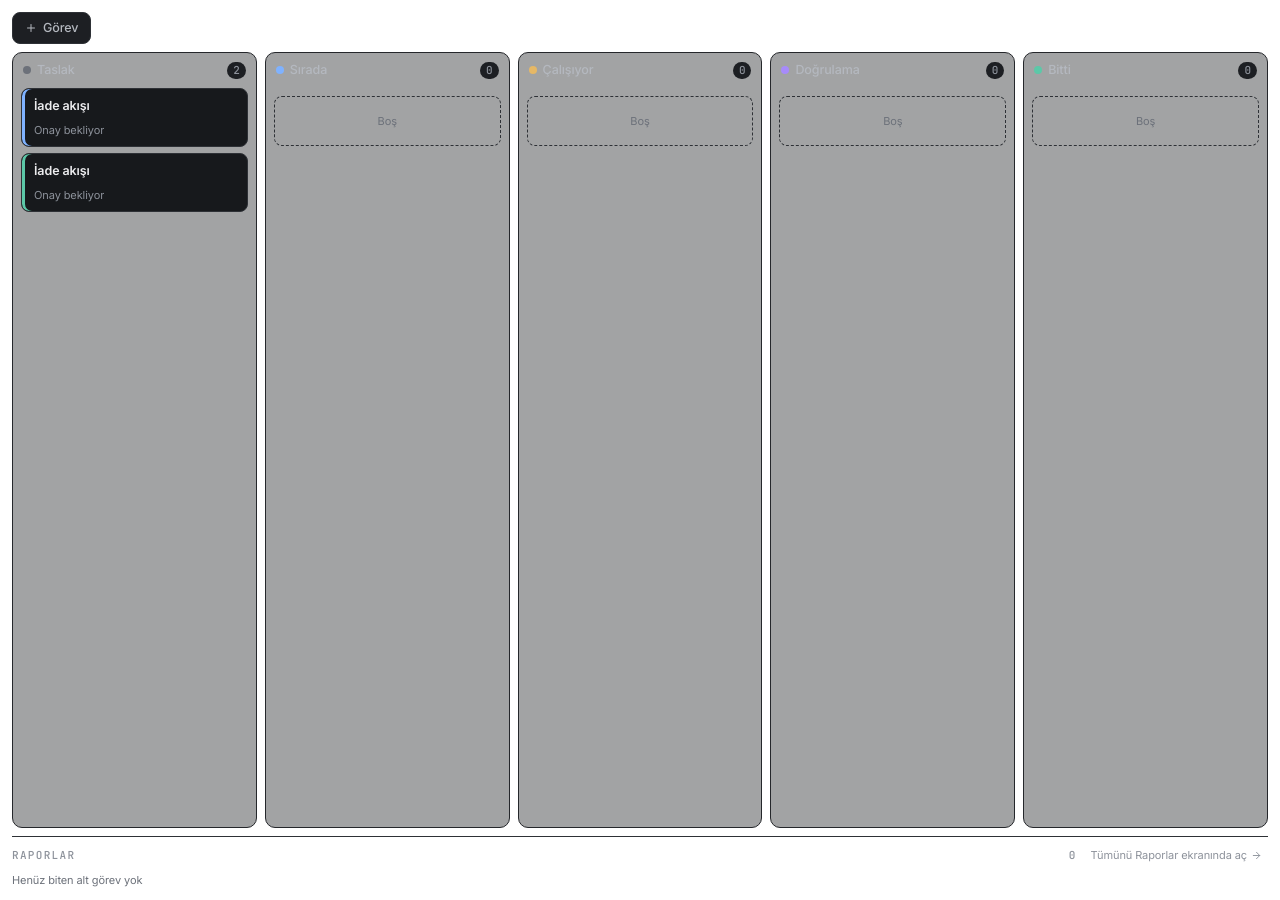
Test: kaydedilmemis taslak korumasi › baska gorevi sec: kirli iken alertdialog cikar; Vazgec secim degismez; At yeni gorev secili
Click the 1st button "İade akışı Onay bekliyor" at (134,117), box [21,88,248,147]
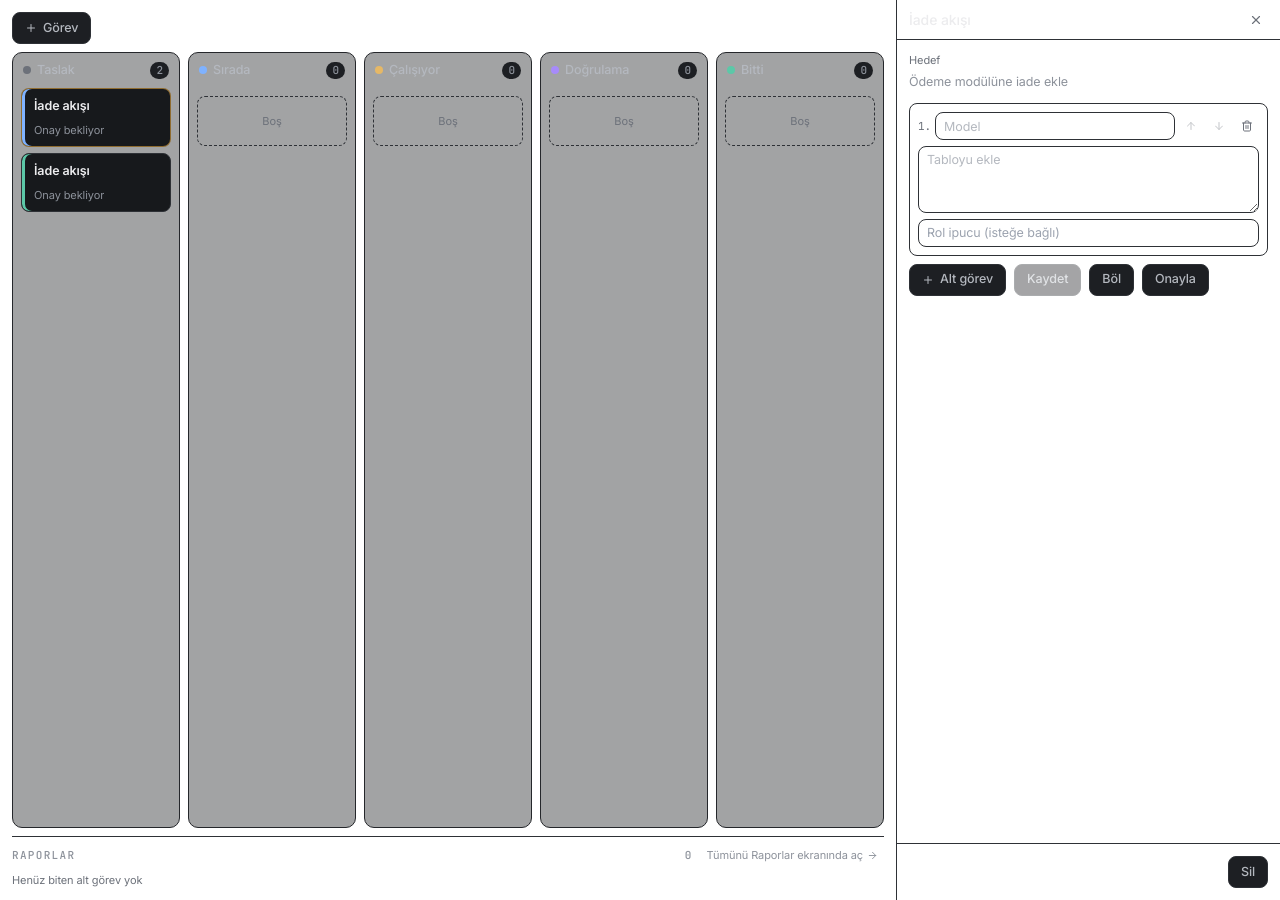
Replace the text in the text box named "İstem 1" with "Değiştirildi" at (1088,179), box [918,146,1259,213]
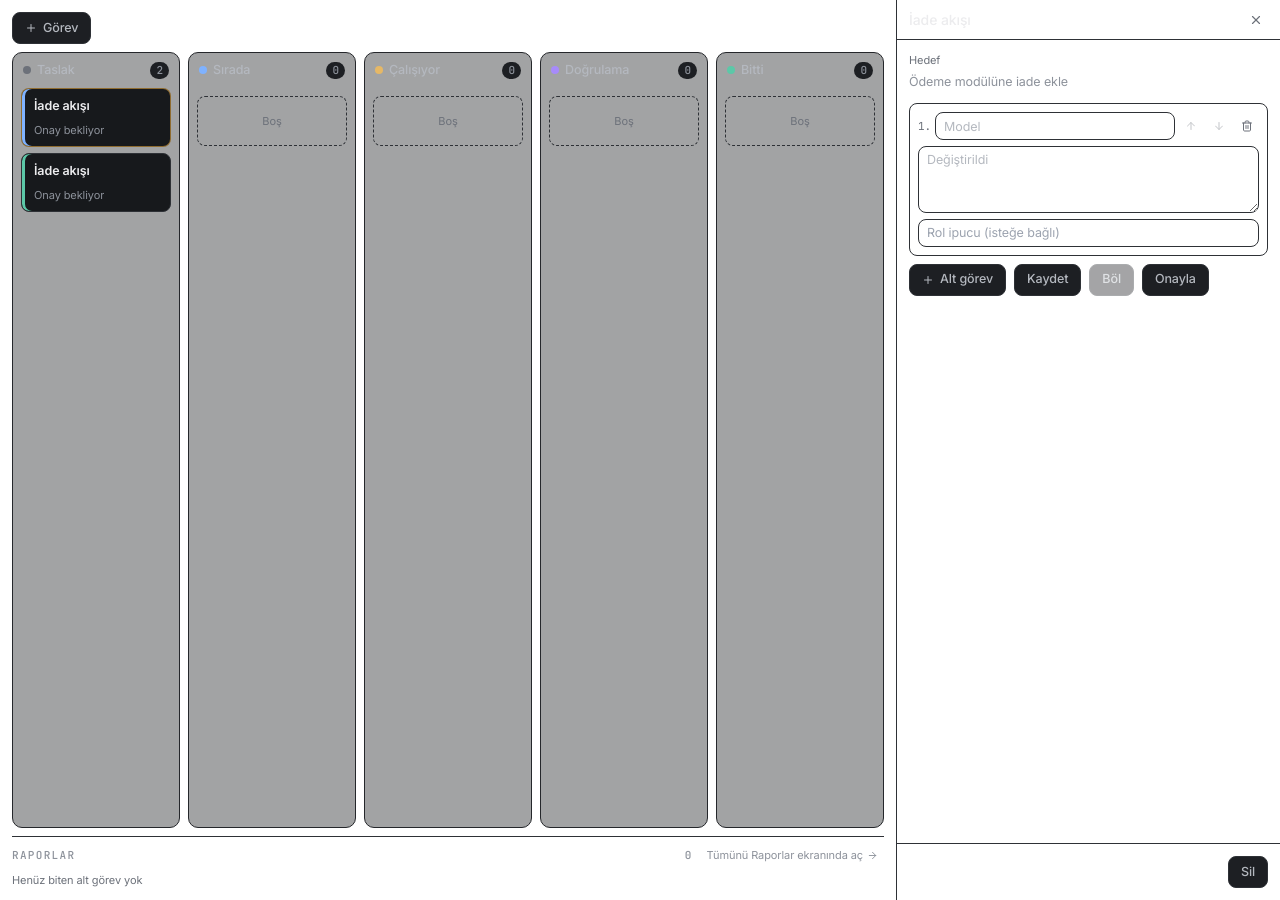
Click the 2nd button "İade akışı Onay bekliyor" at (96,183), box [21,153,171,212]
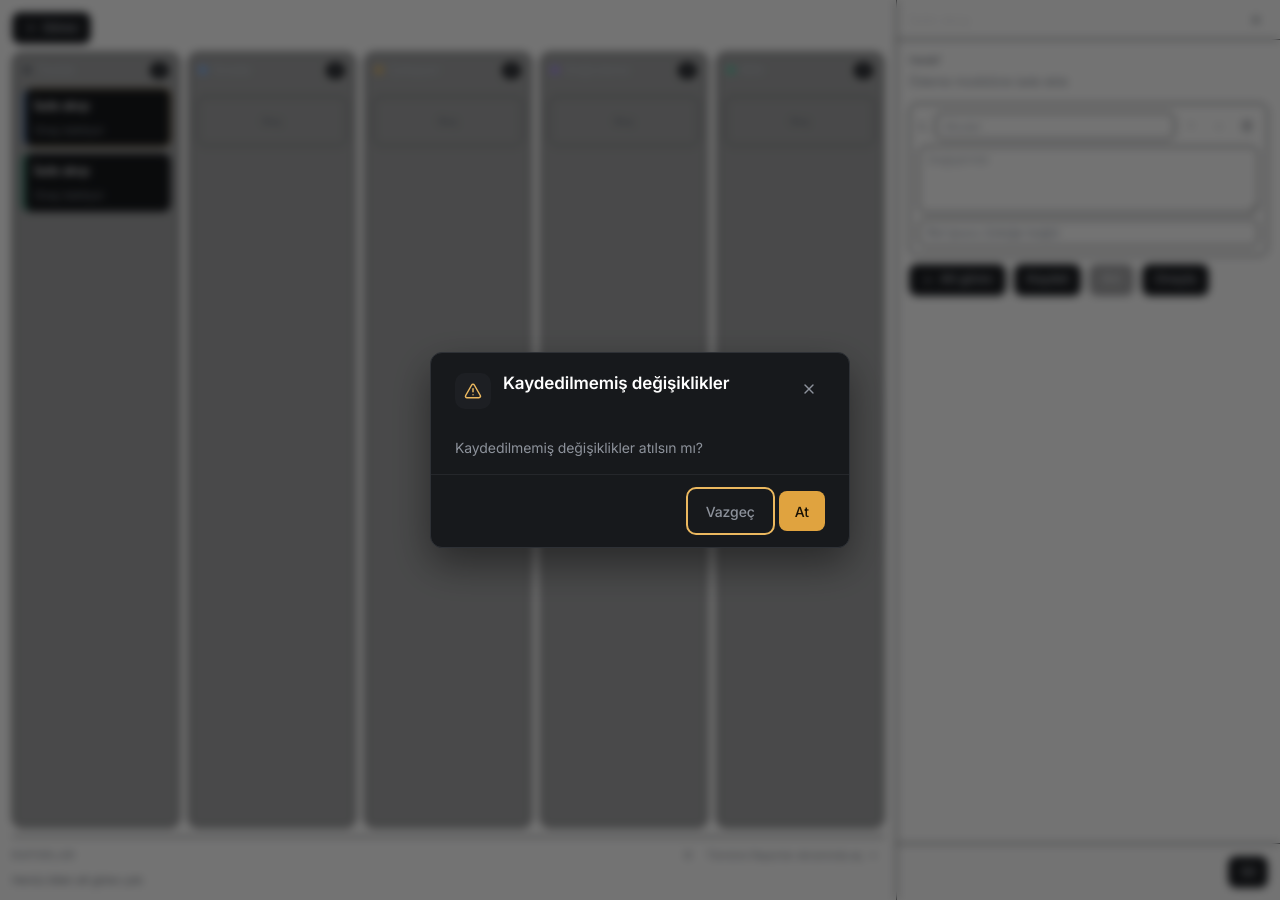
Expected: the dialog is shown, [430,352,850,548]
Click the button "Vazgeç" at (730,511), box [690,491,771,531]
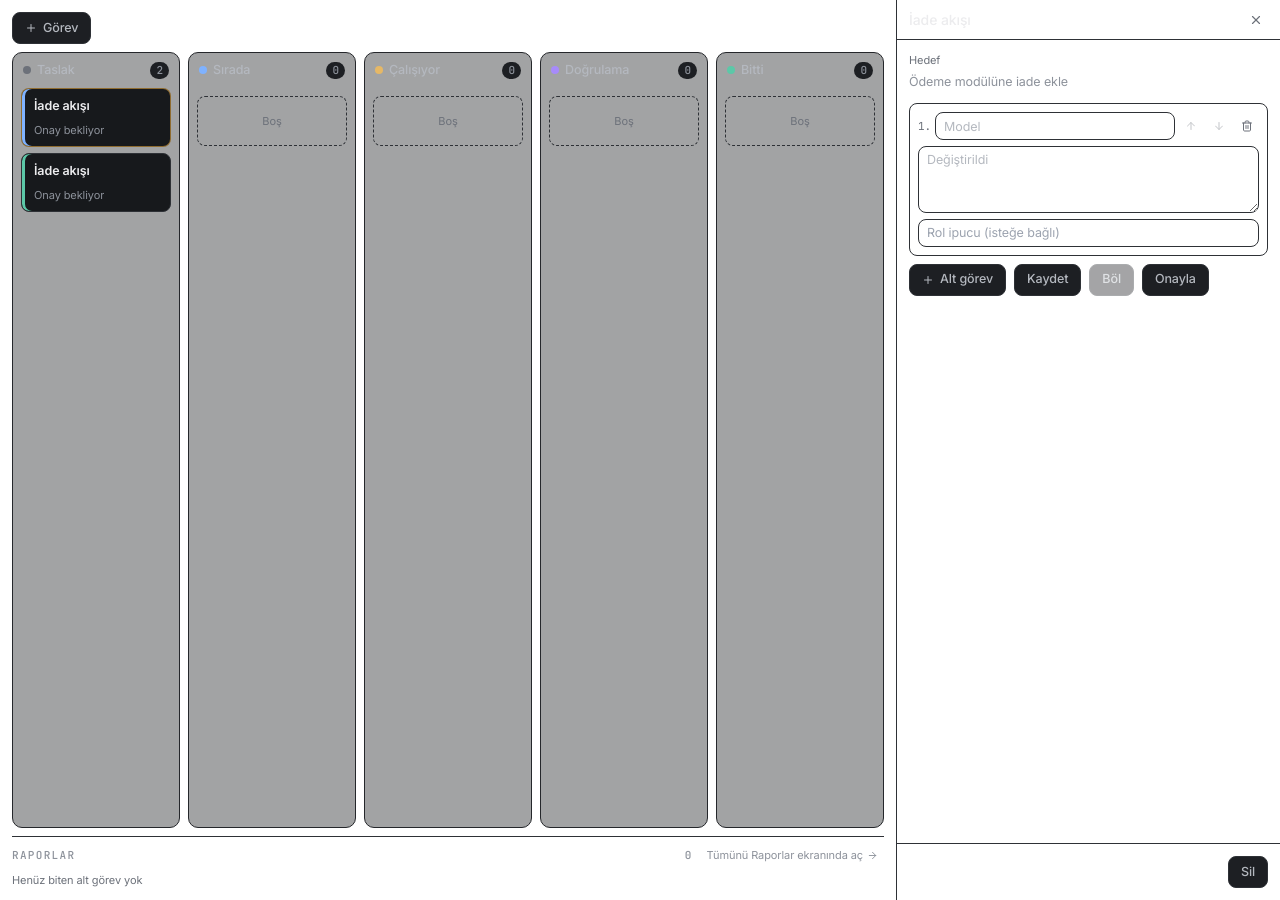
Expected: the dialog is gone
Click the 2nd button "İade akışı Onay bekliyor" at (96,183), box [21,153,171,212]
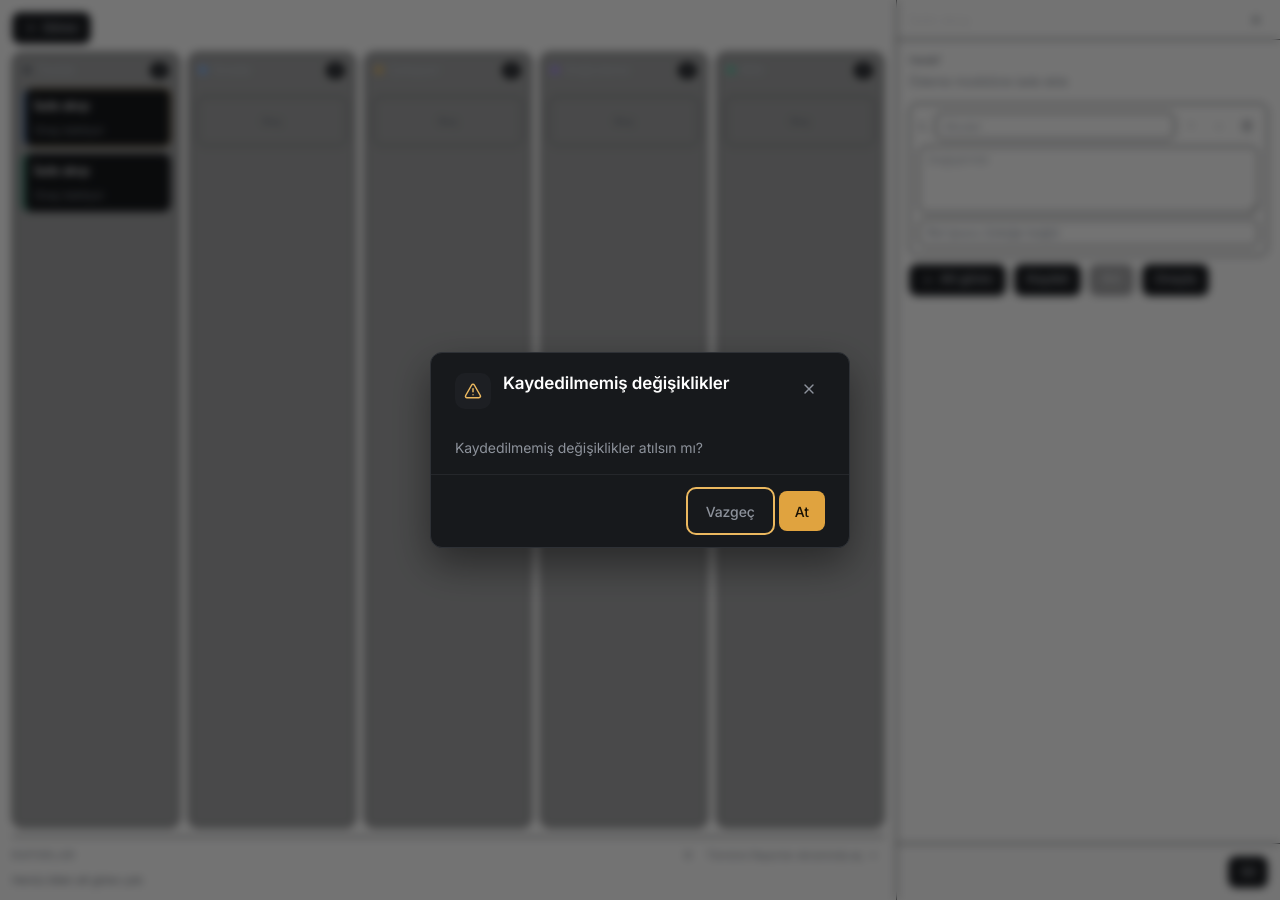
Click the button "At" at (802,511), box [779,491,825,531]
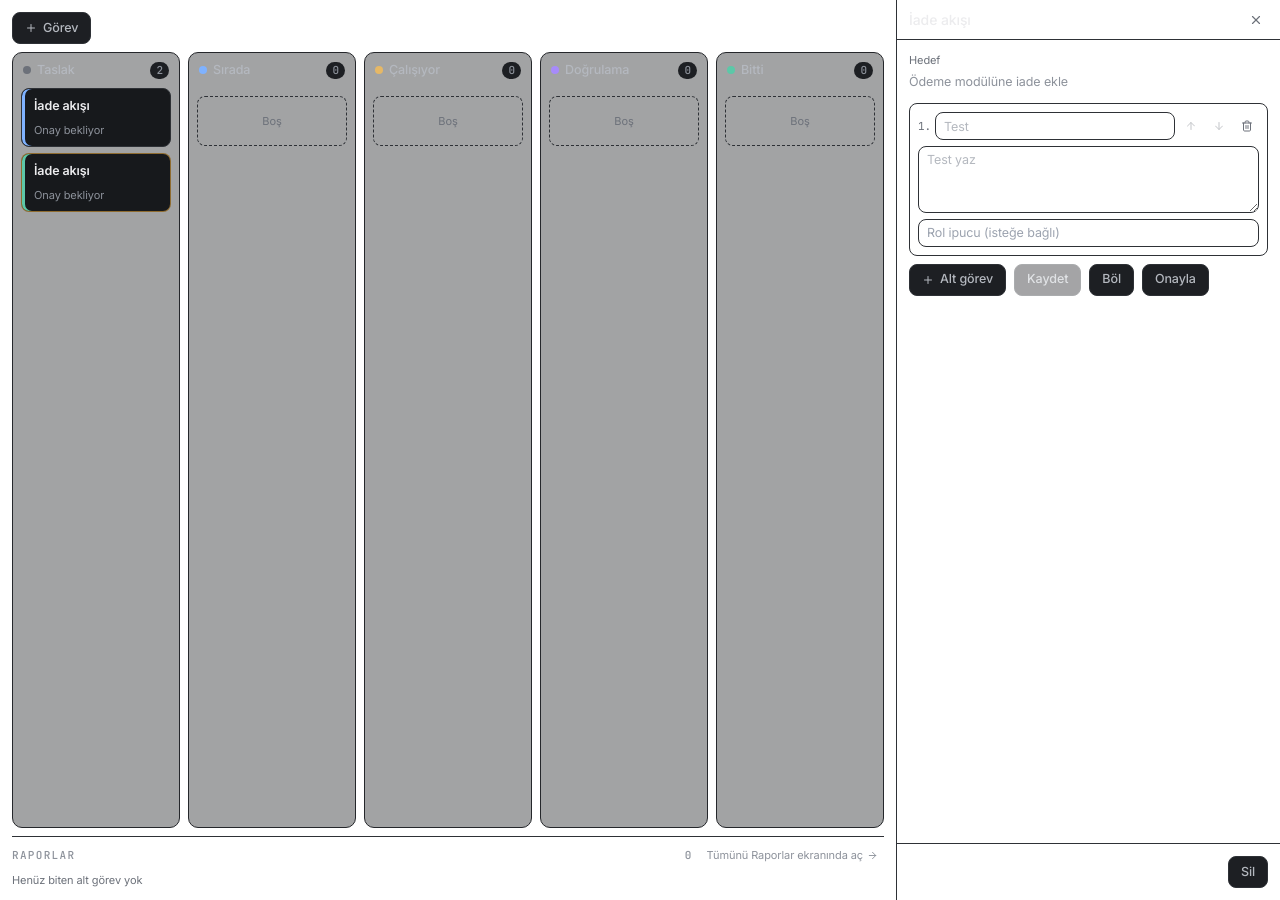
Expected: the field named "Başlık 1" holds "Test", [935,112,1175,140]
